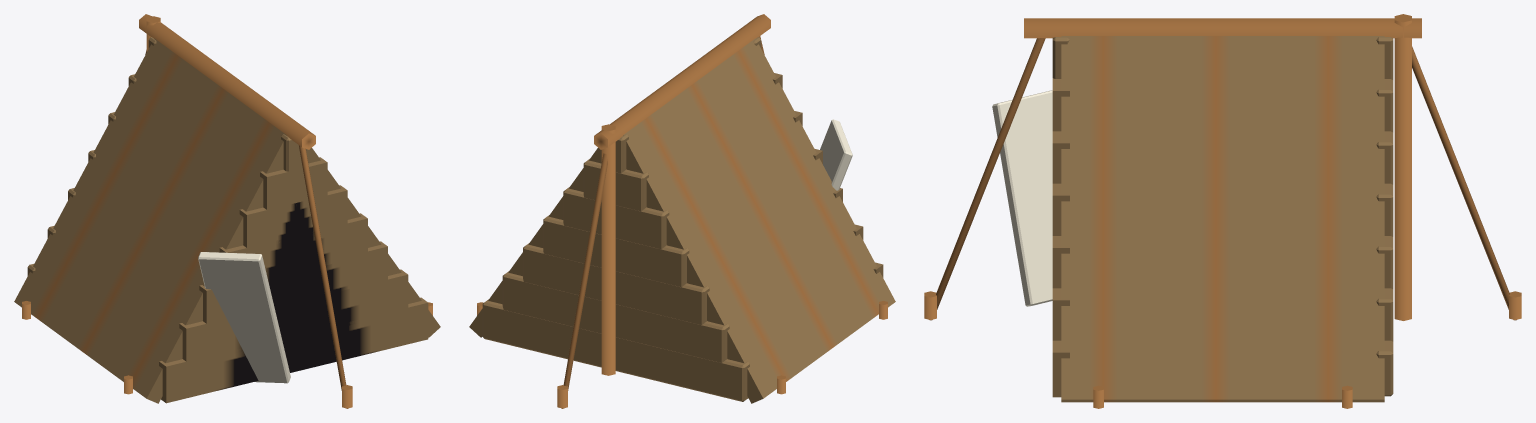
File: prop_tent_4e60.glb
3 renders of one model, left to right at view 1: azimuth 30°, elevation 25°; view 2: azimuth 150°, elevation 25°; view 3: azimuth 270°, elevation 25°, orthographic. The views are drawn at different scales.
Parts seen in each view (by area): view 1: prop_tent_4e60; view 2: prop_tent_4e60; view 3: prop_tent_4e60.
Boxes of the visible parts, x1,y1,x2,y2 form: prop_tent_4e60: (14,14,440,408); prop_tent_4e60: (469,14,895,408); prop_tent_4e60: (924,14,1521,408).
Bounding box in the file's own units: 1.55 × 1.21 × 2.12.
Materials: 1 (1 with a texture image).
